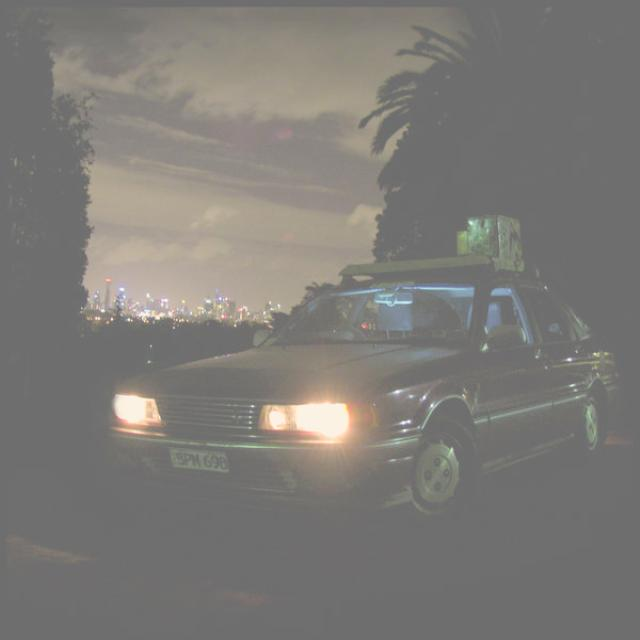Car: (116, 266, 610, 516)
